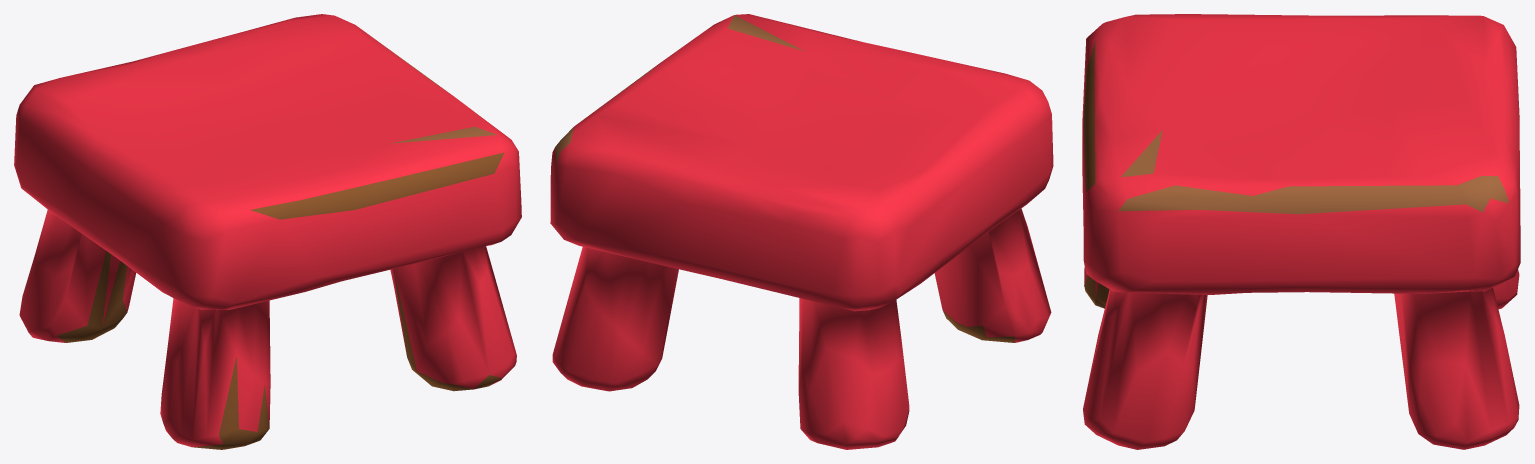
The model's file is SM_stool_red.glb.
3 renders of one model, left to right at view 1: azimuth 30°, elevation 25°; view 2: azimuth 150°, elevation 25°; view 3: azimuth 270°, elevation 25°, orthographic. The views are drawn at different scales.
Parts seen in each view (by area): view 1: SM_stool_red; view 2: SM_stool_red; view 3: SM_stool_red.
Boxes of the visible parts, box(x1,y1,x2,y2) form: SM_stool_red: box(14, 14, 521, 449); SM_stool_red: box(550, 14, 1053, 449); SM_stool_red: box(1082, 14, 1520, 449).
Size of the model in its own units: 0.6779 by 0.45 by 0.6687.
Materials: 1 (1 with a texture image).
